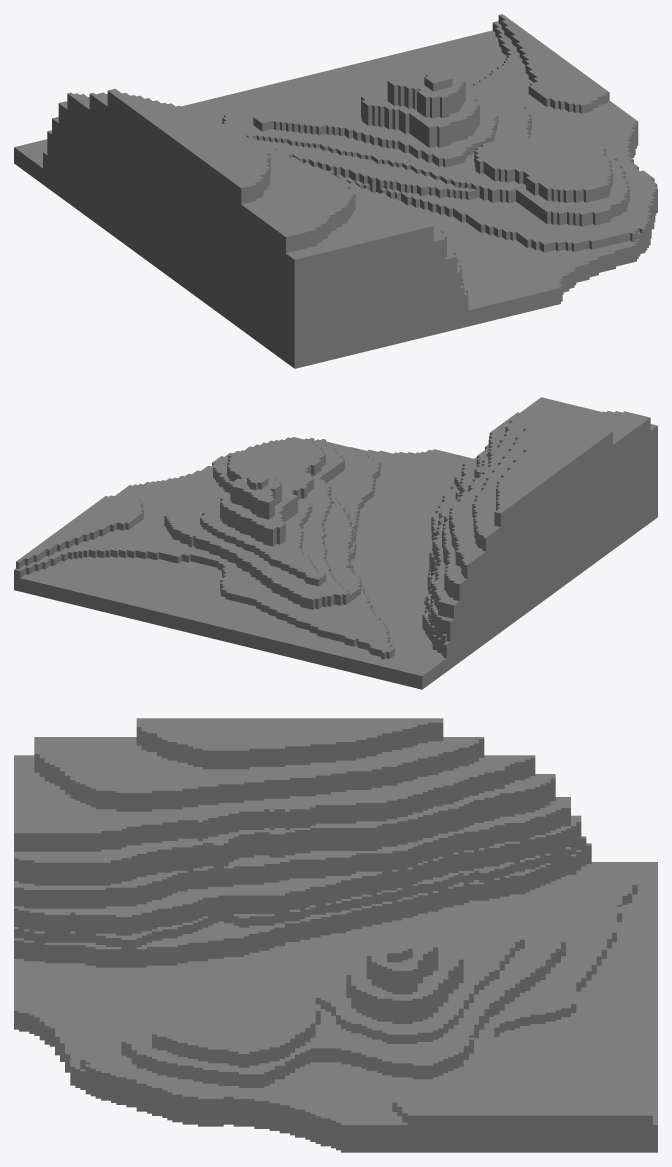
Rendered from Main Island-30.obj.
3 renders of one model, top to bottom at view 1: azimuth 30°, elevation 25°; view 2: azimuth 150°, elevation 25°; view 3: azimuth 270°, elevation 25°, orthographic. The views are drawn at different scales.
Parts seen in each view (by area): view 1: Main Island-12; view 2: Main Island-12; view 3: Main Island-12.
Boxes of the visible parts, x1,y1,x2,y2 form: Main Island-12: (14, 14, 657, 368); Main Island-12: (14, 397, 657, 689); Main Island-12: (14, 718, 657, 1152).
Bounding box in the file's own units: 126 × 35 × 126.
Materials: 1 (1 with a texture image).
